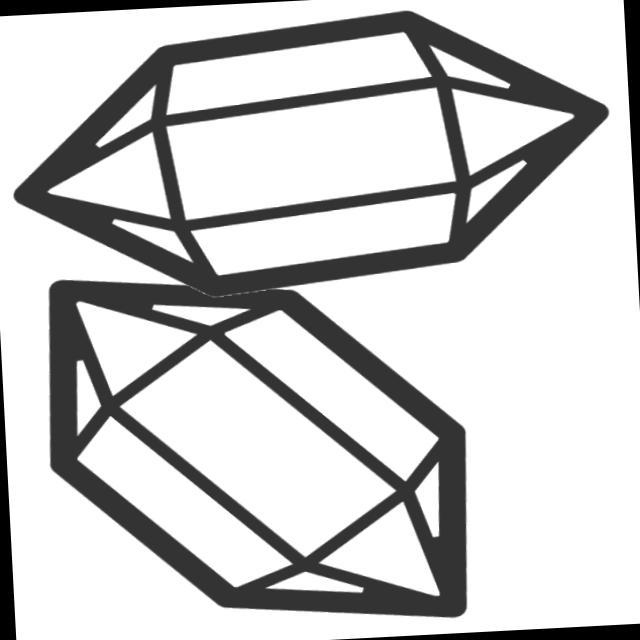crystal: (1, 1, 627, 371), (29, 229, 485, 640)
